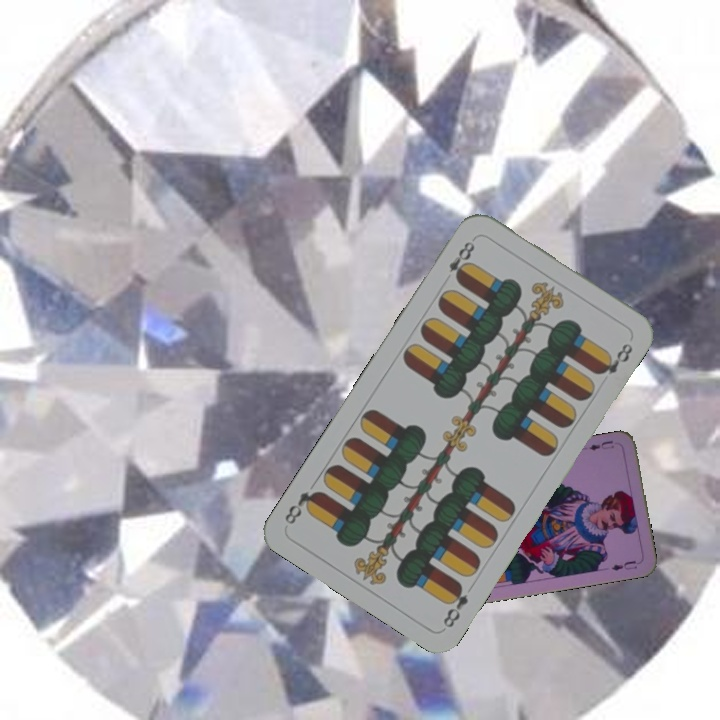E8: (444, 234, 478, 285), (439, 578, 471, 631)
EU: (585, 436, 616, 453)
